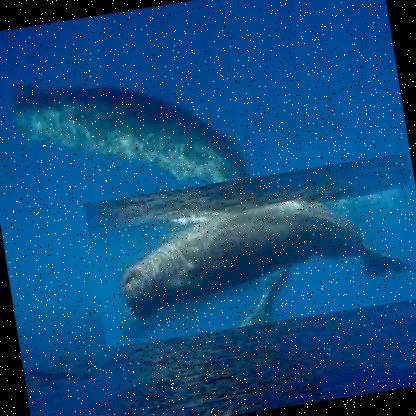sperm_whale: (83, 151, 415, 349), (0, 37, 301, 245)
